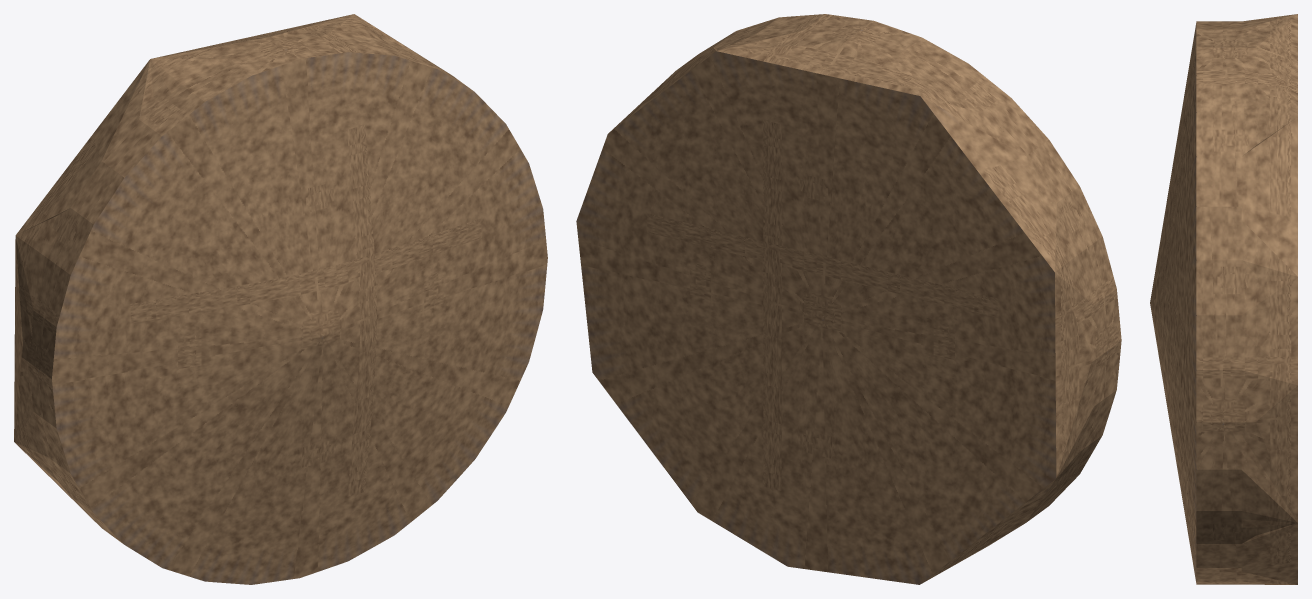
File: hero_shield_r4.glb
3 views of the same model, side by side, from view 1: azimuth 30°, elevation 25°; view 2: azimuth 150°, elevation 25°; view 3: azimuth 270°, elevation 25° (orthographic).
Parts seen in each view (by area): view 1: hero_shield_lp; view 2: hero_shield_lp; view 3: hero_shield_lp.
Part boxes in pixels (x1,y1,x2,y2): hero_shield_lp: (14,14,547,584); hero_shield_lp: (576,14,1121,584); hero_shield_lp: (1150,14,1297,584).
Size of the model in its own units: 1 by 1 by 0.2625.
1 material, 1 textured.
